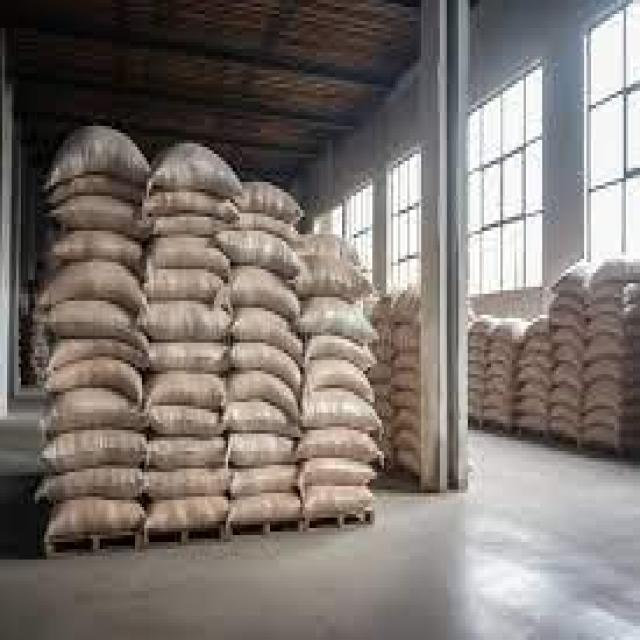gunny_bag: (41, 123, 151, 197), (38, 262, 150, 315), (43, 384, 148, 440), (44, 301, 150, 349), (151, 144, 246, 197), (44, 358, 142, 405), (43, 431, 146, 474), (219, 227, 301, 279), (232, 308, 305, 362), (229, 342, 304, 393), (297, 253, 375, 302), (44, 174, 142, 212), (37, 468, 143, 502), (229, 267, 301, 317), (47, 337, 149, 372), (141, 300, 232, 339), (229, 371, 300, 419), (47, 497, 143, 531), (296, 297, 375, 338), (146, 493, 228, 532), (235, 179, 305, 223), (55, 230, 145, 264), (297, 426, 383, 461), (146, 189, 240, 221), (54, 194, 135, 231), (146, 372, 227, 409), (304, 390, 381, 428), (302, 360, 371, 402), (222, 401, 305, 435), (145, 465, 232, 497), (147, 435, 226, 468), (306, 334, 378, 370), (153, 246, 230, 279), (227, 432, 293, 468), (147, 270, 222, 301), (299, 457, 378, 486), (149, 403, 222, 434), (302, 485, 375, 515), (231, 492, 300, 522), (288, 233, 359, 262), (148, 343, 229, 368), (231, 464, 294, 494), (582, 377, 632, 413), (585, 282, 639, 311), (550, 260, 595, 294), (585, 336, 639, 363), (589, 315, 635, 343), (585, 360, 638, 384), (387, 285, 420, 322), (551, 309, 590, 338), (593, 257, 638, 282), (489, 322, 528, 345), (548, 387, 581, 411), (554, 365, 584, 391), (391, 410, 421, 436), (554, 346, 585, 371), (553, 328, 585, 352), (470, 313, 499, 339), (524, 318, 554, 343), (395, 429, 421, 457), (516, 367, 551, 387), (585, 410, 617, 431), (520, 383, 551, 404), (392, 325, 419, 349), (485, 380, 516, 400), (585, 426, 619, 444), (551, 407, 581, 427), (520, 354, 553, 372), (486, 363, 516, 382), (518, 398, 549, 416), (391, 391, 420, 410), (552, 296, 586, 311), (391, 370, 418, 388), (526, 336, 552, 353), (395, 353, 418, 368), (468, 333, 487, 349), (484, 394, 509, 406), (484, 408, 509, 417)
